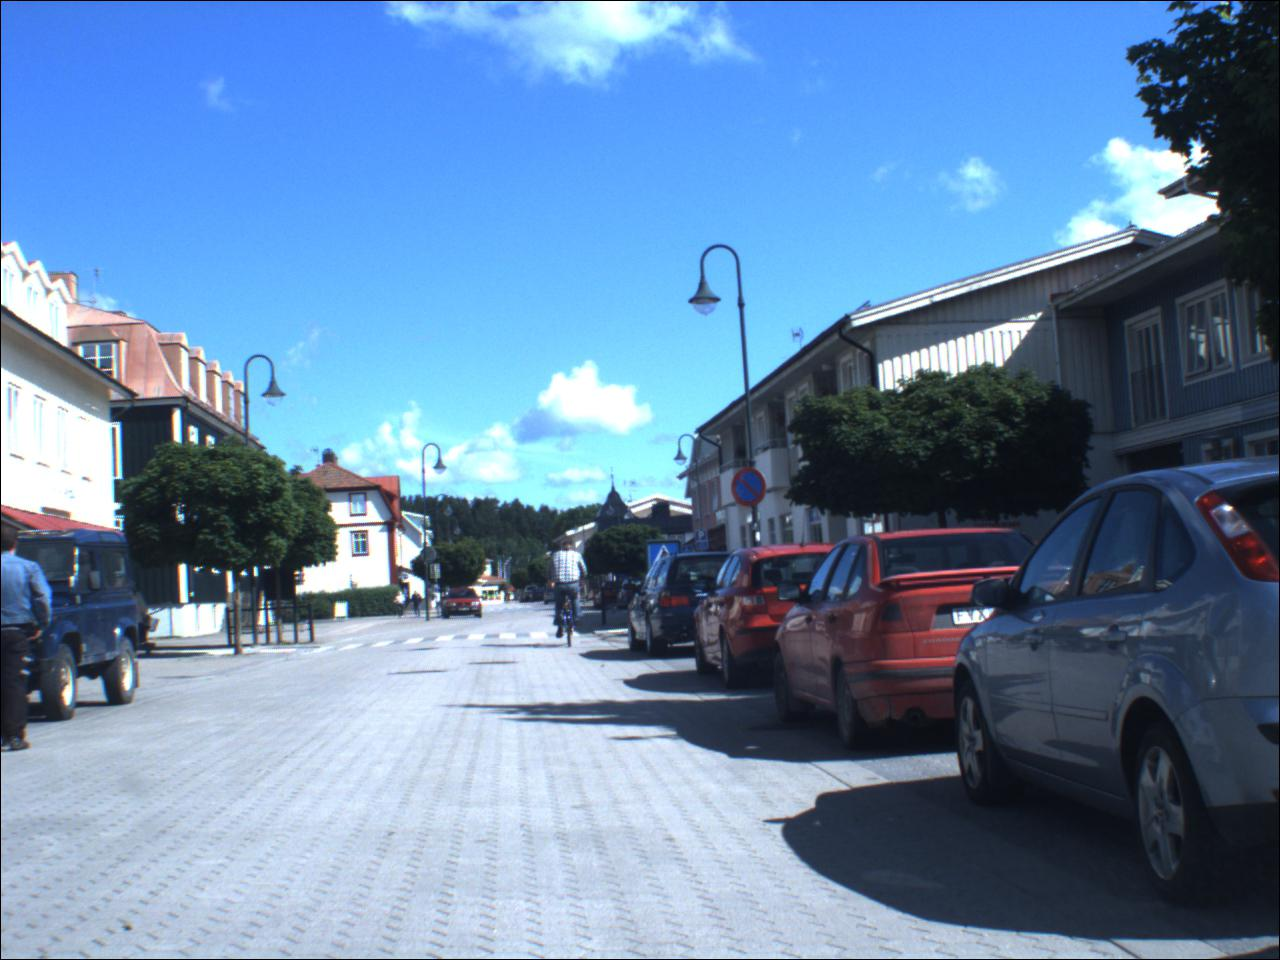NO_PARKING: (728, 466, 776, 512)
PEDESTRIAN_CROSSING: (648, 545, 684, 583)
